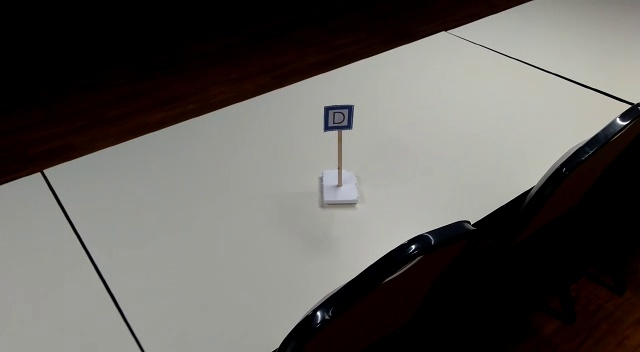durak: (322, 104, 353, 130)
